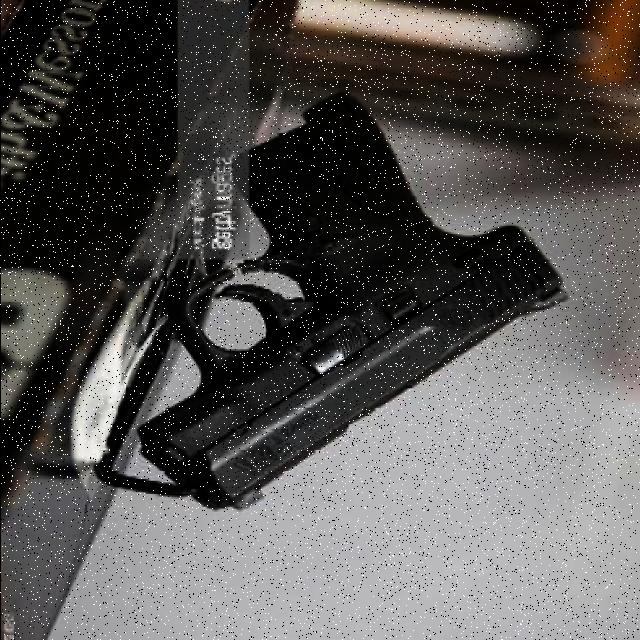Guns: (137, 88, 572, 513)
